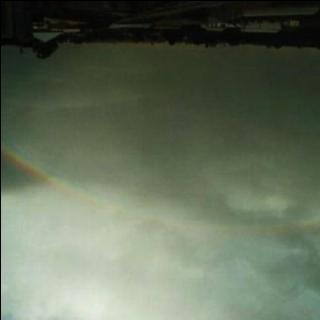Stratocumulus: (0, 54, 320, 320)
